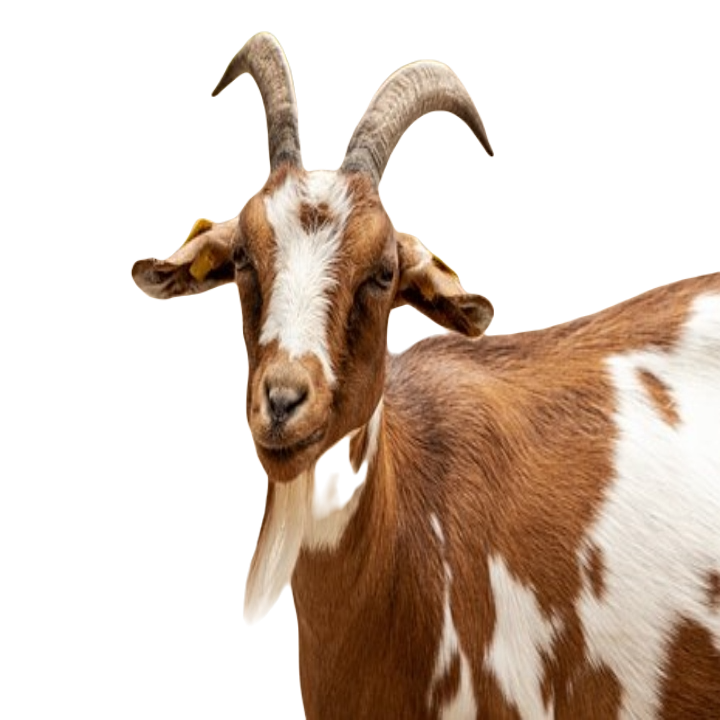Goat: (123, 32, 719, 719)
